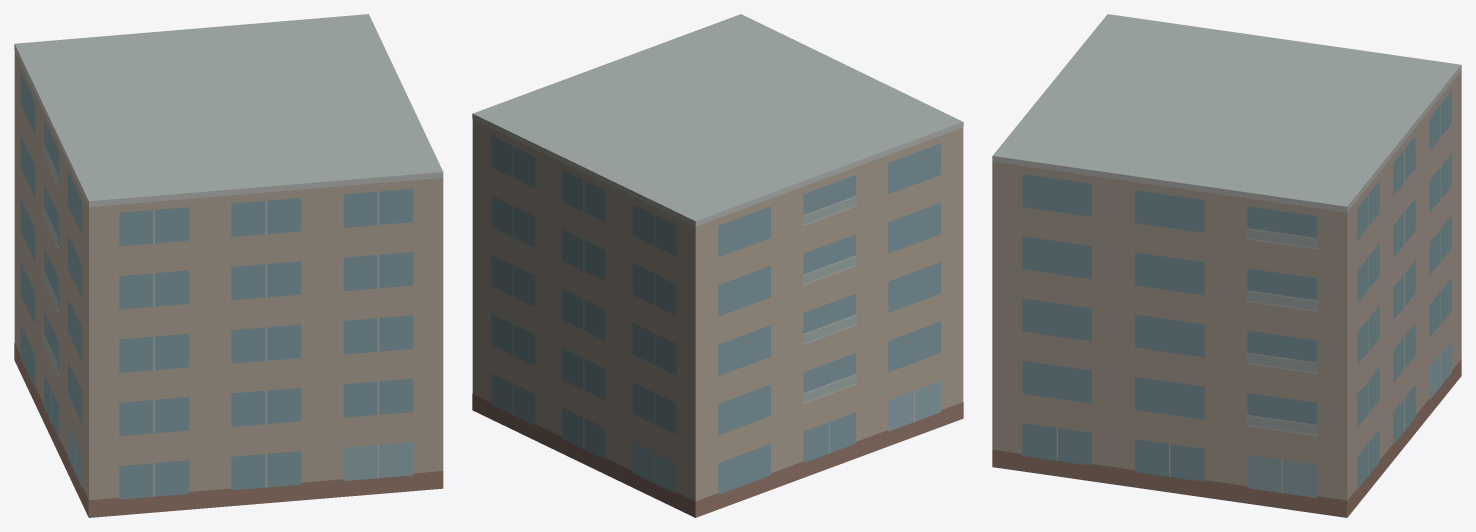
The model's file is survey-upis-32974925.glb.
3 views of the same model, side by side, from view 1: azimuth 30°, elevation 25°; view 2: azimuth 150°, elevation 25°; view 3: azimuth 270°, elevation 25° (orthographic). The views are drawn at different scales.
Visible parts, largest first — view 1: survey-upis-32974925.tmp; view 2: survey-upis-32974925.tmp; view 3: survey-upis-32974925.tmp.
Part boxes in pixels (x1=…): survey-upis-32974925.tmp: x1=14, y1=14, x2=443, y2=517; survey-upis-32974925.tmp: x1=472, y1=14, x2=963, y2=517; survey-upis-32974925.tmp: x1=992, y1=14, x2=1461, y2=517.
Size of the model in its own units: 17.55 by 13.2 by 18.05.
